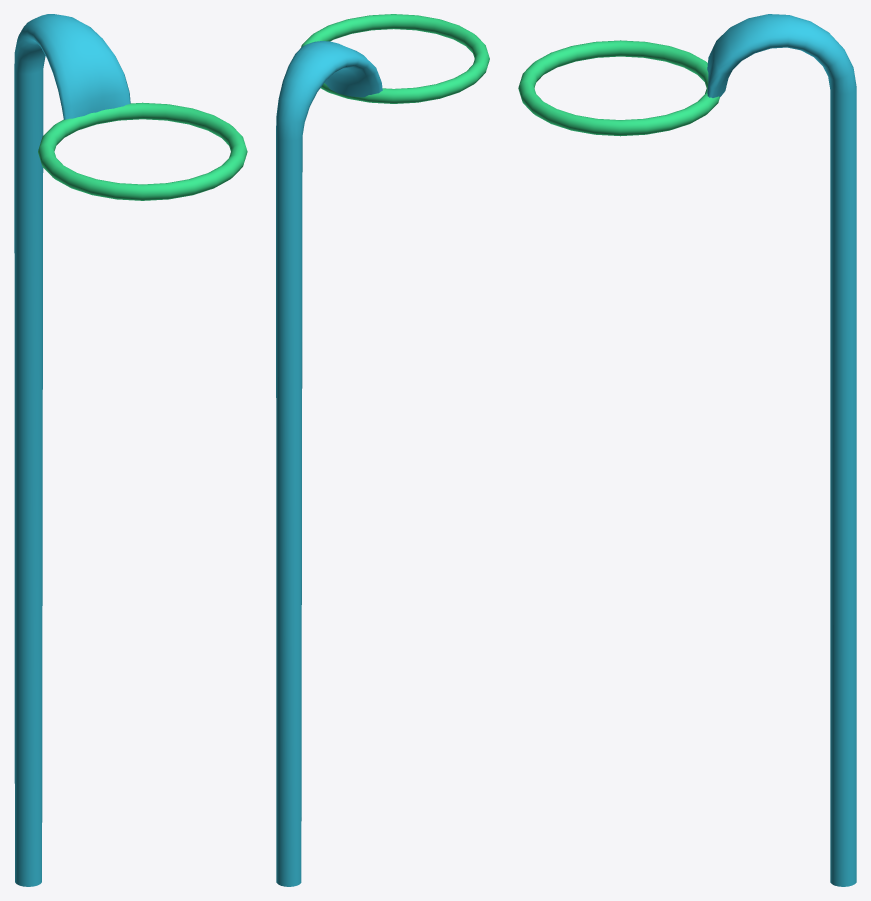
File: BasketballHoop.FBX
3 renders of one model, left to right at view 1: azimuth 30°, elevation 25°; view 2: azimuth 150°, elevation 25°; view 3: azimuth 270°, elevation 25°, orthographic. The views are drawn at different scales.
Visible parts, largest first — view 1: Basketball_Pole, Basketball_Hoop; view 2: Basketball_Pole, Basketball_Hoop; view 3: Basketball_Pole, Basketball_Hoop.
Part boxes in pixels (<box>): Basketball_Pole: <box>14,14,130,886</box>; Basketball_Hoop: <box>38,102,247,200</box>; Basketball_Pole: <box>276,41,382,886</box>; Basketball_Hoop: <box>301,14,489,103</box>; Basketball_Pole: <box>707,14,856,886</box>; Basketball_Hoop: <box>518,40,719,136</box>.
Size of the model in its own units: 29.92 by 139 by 49.5.
